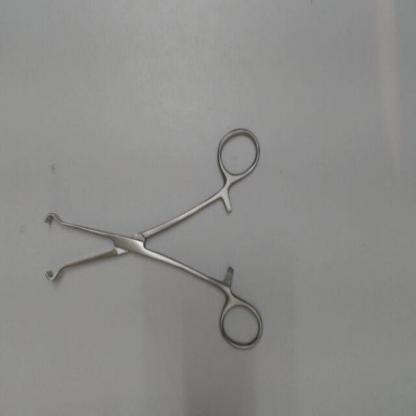Babcock Tissue Forceps: (36, 120, 266, 358)
